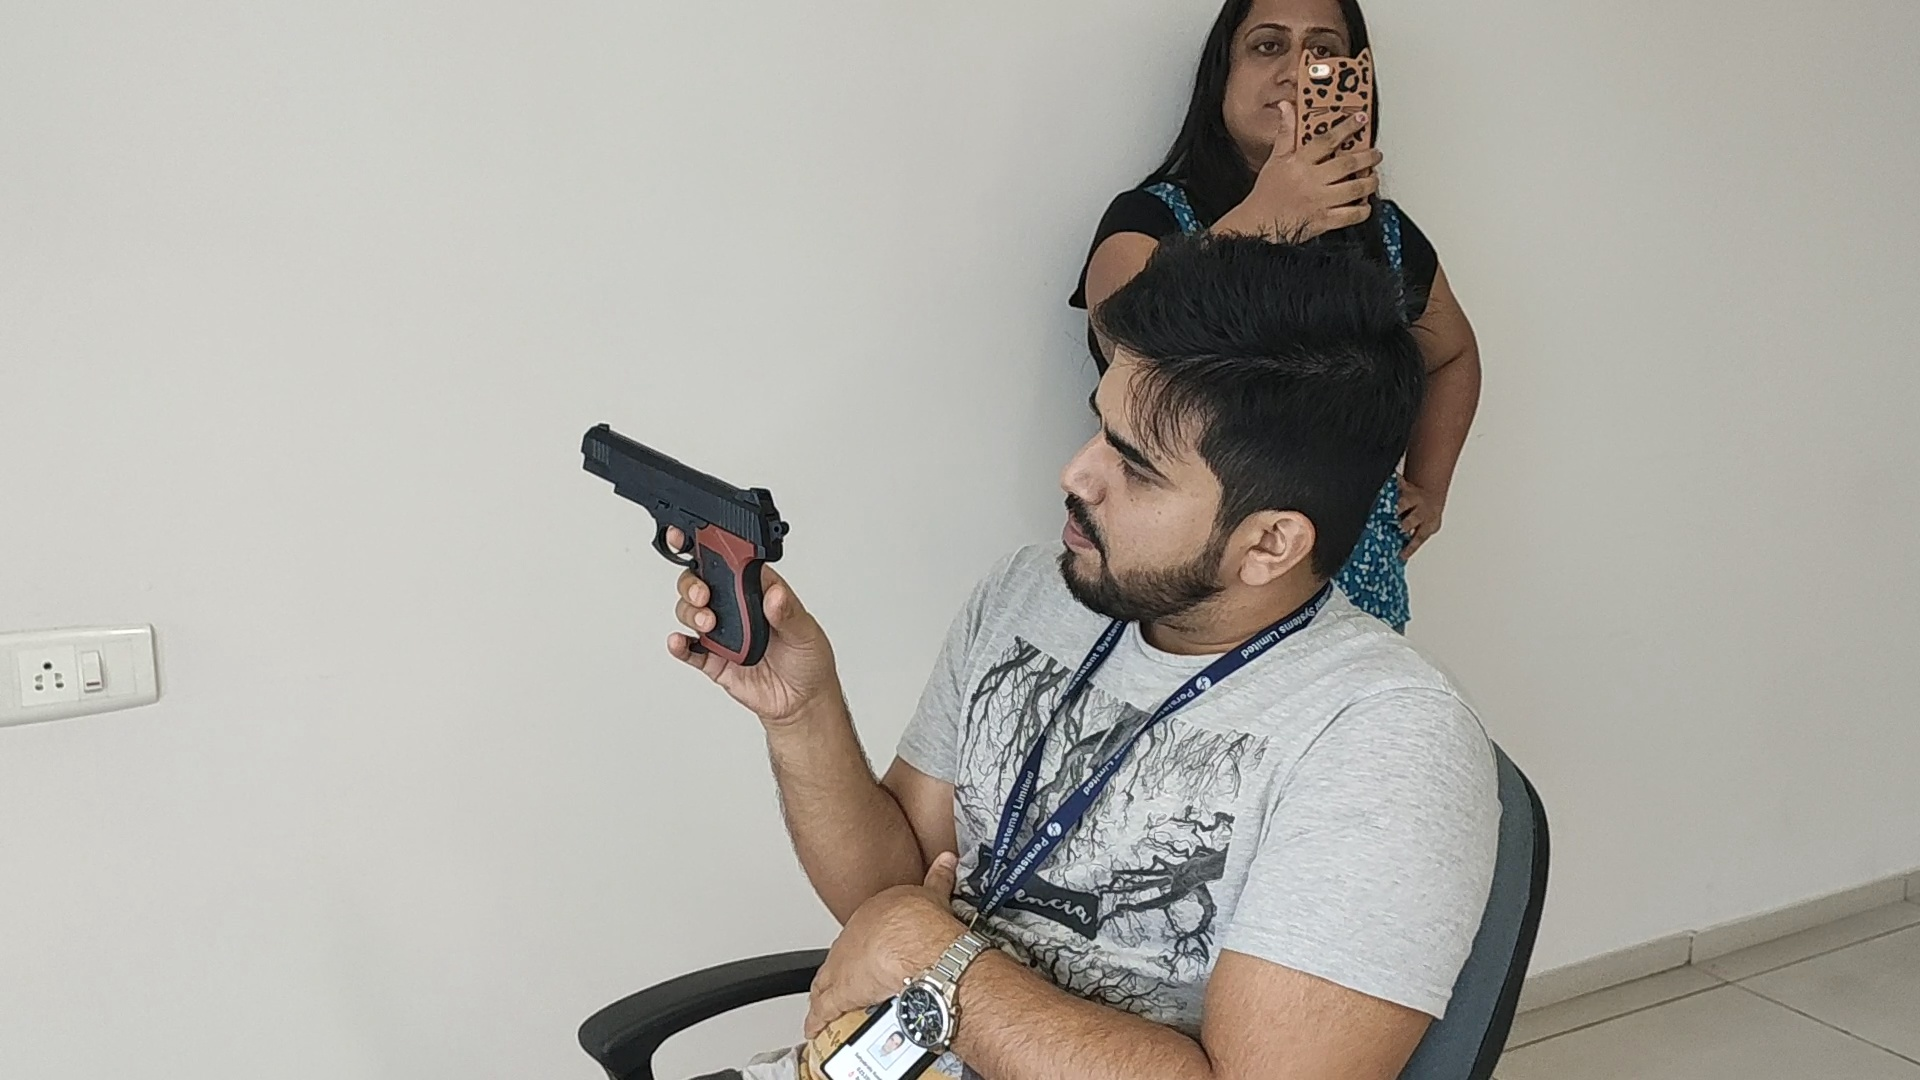gun: (578, 421, 790, 564)
